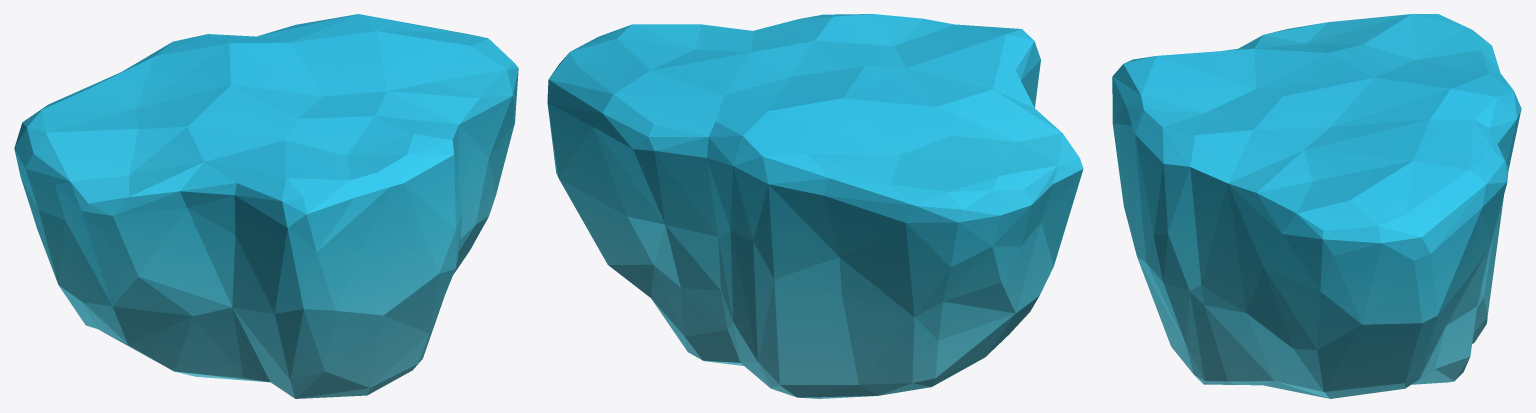
File: ice_016.fbx
3 renders of one model, left to right at view 1: azimuth 30°, elevation 25°; view 2: azimuth 150°, elevation 25°; view 3: azimuth 270°, elevation 25°, orthographic. The views are drawn at different scales.
Parts seen in each view (by area): view 1: ice_016; view 2: ice_016; view 3: ice_016.
Boxes of the visible parts, box(x1,y1,x2,y2) form: ice_016: box(14, 14, 518, 398); ice_016: box(547, 14, 1083, 398); ice_016: box(1112, 14, 1521, 398).
Size of the model in its own units: 331 by 246 by 182.
